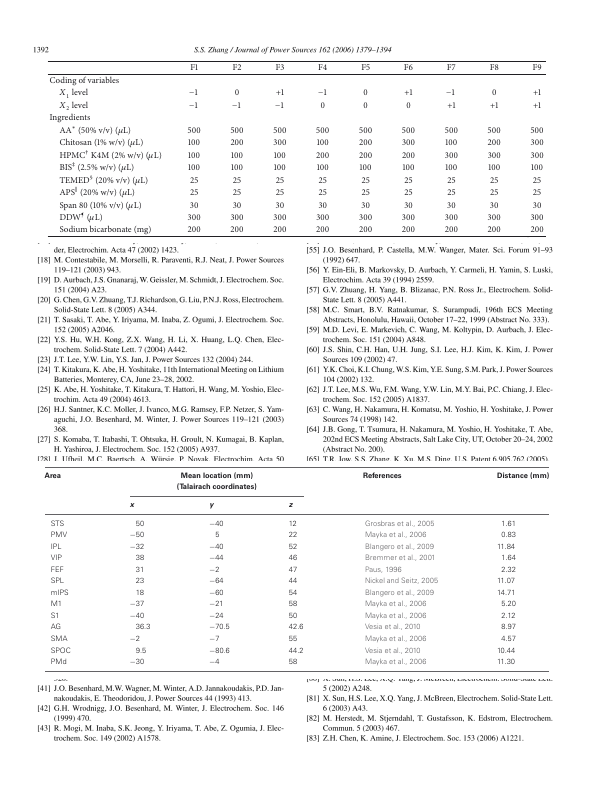borderless: (44, 466, 549, 671), (46, 59, 546, 236)
cell: (58, 146, 163, 163), (176, 472, 258, 492), (58, 172, 149, 188), (58, 135, 144, 150), (58, 197, 143, 212), (58, 184, 136, 200), (58, 159, 135, 175), (58, 122, 132, 138), (58, 225, 152, 236), (58, 209, 104, 225), (48, 76, 120, 86), (364, 577, 439, 586), (364, 555, 436, 564), (364, 520, 435, 529), (364, 543, 435, 552), (364, 589, 435, 598), (364, 612, 427, 621), (364, 635, 427, 644), (364, 658, 427, 667), (58, 97, 89, 114), (364, 624, 421, 633), (364, 647, 421, 656), (364, 532, 427, 540), (364, 601, 427, 609), (58, 85, 89, 101), (48, 113, 91, 124), (496, 472, 550, 480), (364, 566, 403, 575), (362, 472, 403, 480), (208, 624, 231, 633), (208, 647, 231, 656), (50, 647, 72, 656), (188, 97, 200, 113), (231, 97, 243, 113), (274, 97, 286, 113), (496, 543, 516, 552), (496, 577, 516, 586), (50, 589, 70, 598), (496, 589, 516, 598), (496, 647, 516, 656), (496, 658, 516, 667), (188, 85, 200, 100), (317, 85, 329, 100), (229, 138, 245, 149), (229, 225, 245, 236), (446, 85, 457, 100), (272, 138, 287, 149), (358, 138, 373, 149), (401, 138, 416, 149), (487, 138, 502, 149), (530, 138, 545, 149), (315, 150, 330, 161), (358, 150, 373, 161), (401, 150, 416, 161), (444, 150, 459, 161), (487, 150, 502, 161), (530, 150, 545, 161), (187, 225, 202, 236), (272, 225, 287, 236), (315, 225, 330, 236), (358, 225, 373, 236), (401, 225, 416, 236), (444, 225, 459, 236), (487, 225, 502, 236), (530, 225, 545, 236), (50, 635, 68, 644), (50, 658, 68, 667), (229, 126, 245, 136), (229, 213, 245, 223), (187, 138, 201, 149), (316, 138, 330, 149), (444, 138, 458, 149), (187, 150, 201, 161), (230, 150, 244, 161), (273, 150, 287, 161), (187, 163, 201, 174), (230, 163, 244, 174), (273, 163, 287, 174), (316, 163, 330, 174), (359, 163, 373, 174), (401, 163, 415, 174), (444, 163, 458, 174), (487, 163, 501, 174), (530, 163, 544, 174), (208, 520, 225, 529), (500, 520, 517, 529), (208, 543, 225, 552), (208, 555, 225, 564), (500, 555, 517, 564), (500, 566, 517, 575), (208, 577, 225, 586), (208, 589, 225, 598), (208, 601, 225, 610), (208, 612, 225, 621), (500, 624, 517, 633), (500, 635, 517, 644), (43, 472, 62, 480), (187, 126, 202, 136), (272, 126, 287, 136), (315, 126, 330, 136), (358, 126, 373, 136), (401, 126, 416, 136), (444, 126, 459, 136), (487, 126, 502, 136), (530, 126, 545, 136), (187, 213, 202, 223), (272, 213, 287, 223), (315, 213, 330, 223), (358, 213, 373, 223), (401, 213, 416, 223), (444, 213, 459, 223), (487, 213, 502, 223), (530, 213, 545, 223), (50, 532, 68, 540), (129, 543, 145, 552), (129, 601, 145, 610), (129, 612, 145, 621), (500, 612, 516, 621), (135, 624, 151, 633), (288, 624, 304, 633), (288, 647, 304, 656), (129, 658, 145, 667), (500, 532, 517, 540), (500, 601, 517, 609), (50, 520, 65, 529), (50, 566, 65, 575), (50, 577, 65, 586), (129, 532, 145, 540), (274, 63, 285, 74), (317, 63, 328, 74), (360, 63, 371, 74), (403, 63, 414, 74), (446, 63, 457, 74), (489, 63, 500, 74), (532, 63, 543, 74), (403, 88, 414, 99), (360, 175, 371, 186), (403, 175, 414, 186), (446, 175, 457, 186), (317, 200, 328, 211), (360, 200, 371, 211), (403, 200, 414, 211), (446, 200, 457, 211), (50, 543, 63, 552), (50, 555, 63, 564), (50, 601, 63, 610), (189, 63, 199, 74), (232, 63, 242, 74), (275, 88, 285, 99), (532, 88, 542, 99), (189, 175, 199, 186), (232, 175, 242, 186), (275, 175, 285, 186), (318, 175, 328, 186), (489, 175, 499, 186), (532, 175, 542, 186), (360, 188, 371, 198), (403, 188, 414, 198), (446, 188, 457, 198), (189, 200, 199, 211), (232, 200, 242, 211), (275, 200, 285, 211), (489, 200, 499, 211), (532, 200, 542, 211), (208, 566, 220, 575), (50, 624, 62, 633), (129, 635, 141, 644), (208, 635, 220, 644), (135, 647, 147, 656), (208, 658, 220, 667), (446, 101, 456, 111), (489, 101, 499, 111), (532, 101, 542, 111), (189, 188, 199, 198), (232, 188, 242, 198), (275, 188, 285, 198), (318, 188, 328, 198), (489, 188, 499, 198), (532, 188, 542, 198), (135, 520, 145, 529), (288, 520, 298, 529), (288, 543, 298, 552), (135, 555, 145, 564), (288, 555, 298, 564), (135, 566, 145, 575), (288, 566, 298, 575), (135, 577, 145, 586), (288, 577, 298, 586), (135, 589, 145, 598), (288, 589, 298, 598), (288, 601, 298, 610), (50, 612, 60, 621), (288, 612, 298, 621), (288, 635, 298, 644), (288, 658, 298, 667), (288, 532, 298, 540), (362, 88, 369, 99), (362, 101, 369, 111), (405, 101, 412, 111), (234, 88, 240, 99), (491, 88, 497, 99), (320, 101, 326, 111), (214, 532, 220, 540), (129, 503, 135, 510), (208, 503, 214, 510), (288, 503, 293, 510)
